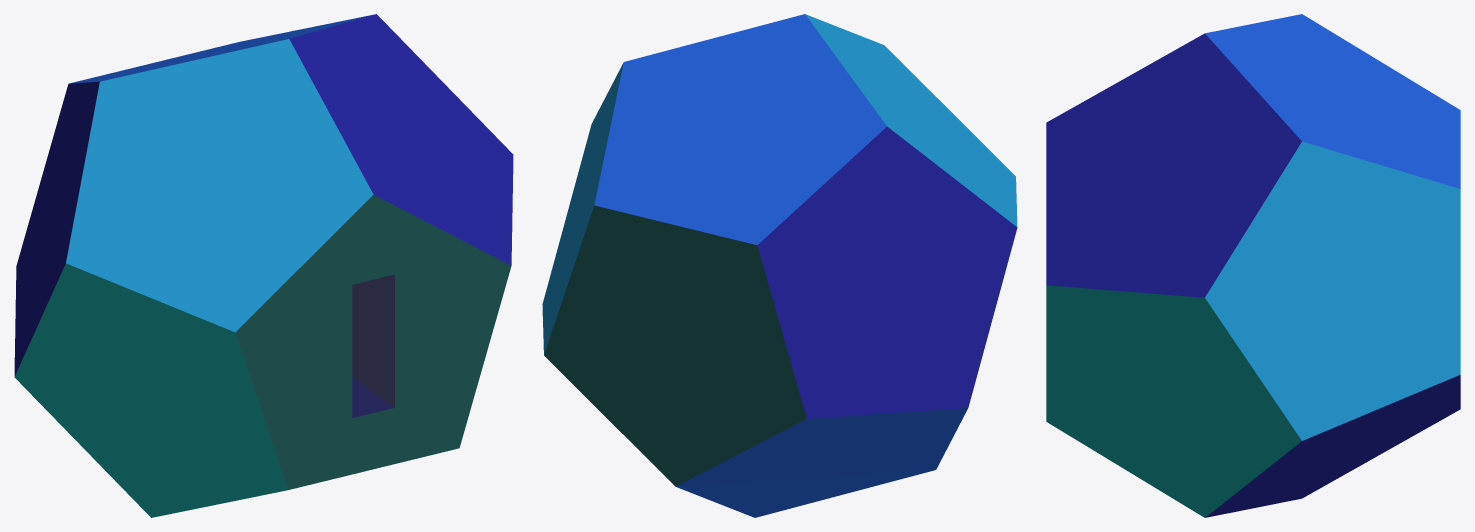
The model's file is coloris_blue.glb.
3 views of the same model, side by side, from view 1: azimuth 30°, elevation 25°; view 2: azimuth 150°, elevation 25°; view 3: azimuth 270°, elevation 25° (orthographic). The views are drawn at different scales.
Parts seen in each view (by area): view 1: noshaders_xxl-dock; view 2: noshaders_xxl-dock; view 3: noshaders_xxl-dock.
Part boxes in pixels (bbox=[...]): noshaders_xxl-dock: bbox=[14, 14, 513, 517]; noshaders_xxl-dock: bbox=[542, 14, 1017, 517]; noshaders_xxl-dock: bbox=[1046, 14, 1460, 517].
Size of the model in its own units: 13.5 by 14.18 by 11.45.
1 material, 1 textured.
